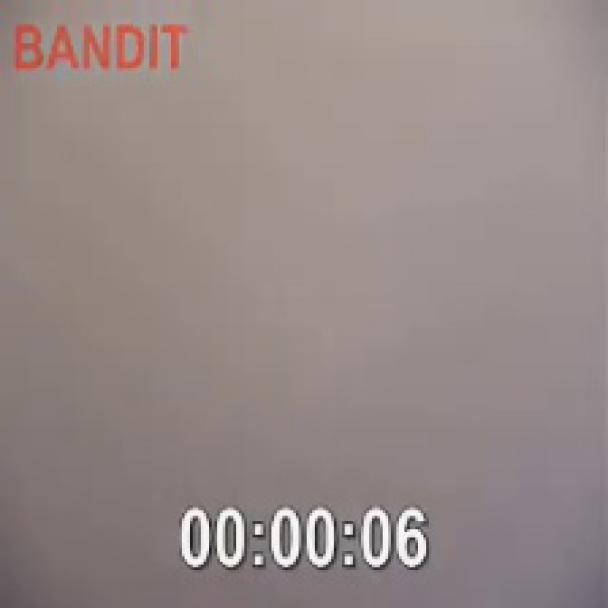smoke: (16, 11, 593, 608)
